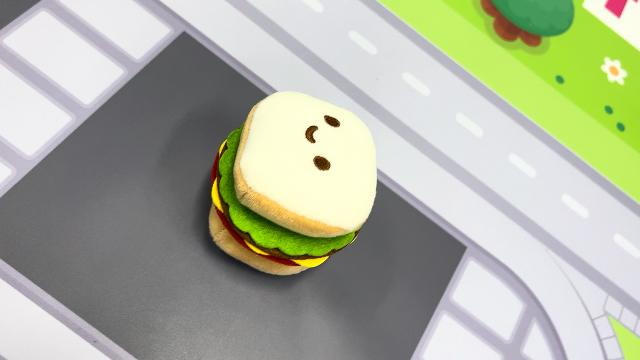sandwich: (206, 87, 380, 276)
